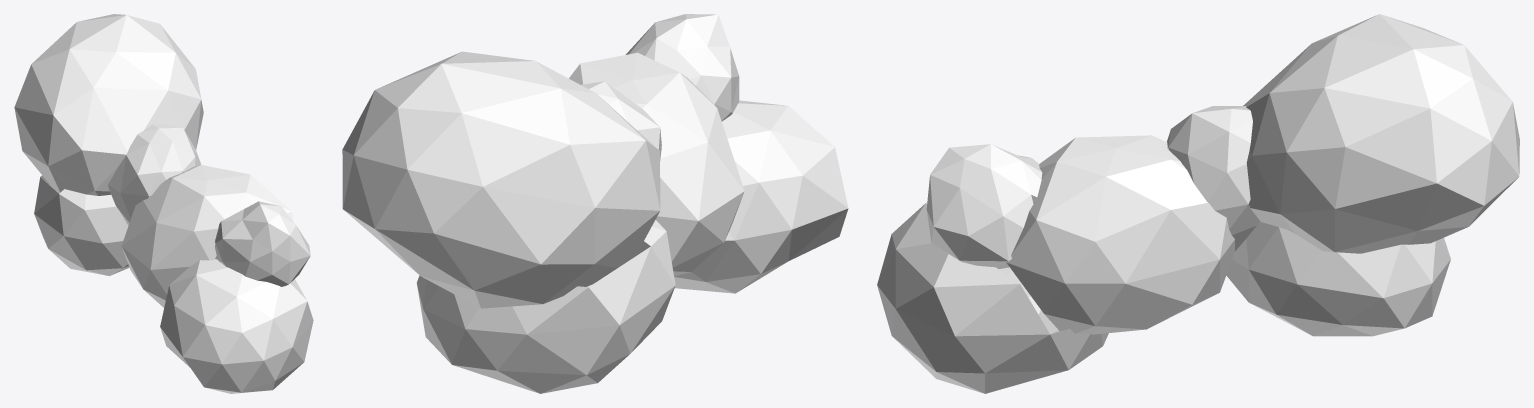
Rendered from Cloud.fbx.
3 views of the same model, side by side, from view 1: azimuth 30°, elevation 25°; view 2: azimuth 150°, elevation 25°; view 3: azimuth 270°, elevation 25° (orthographic). The views are drawn at different scales.
Parts seen in each view (by area): view 1: Icosphere.003; view 2: Icosphere.003; view 3: Icosphere.003.
Boxes of the visible parts, box(x1,y1,x2,y2) form: Icosphere.003: box(14, 14, 313, 393); Icosphere.003: box(342, 14, 848, 393); Icosphere.003: box(877, 14, 1519, 393).
Size of the model in its own units: 561 by 792 by 1285.
1 material, 1 textured.
